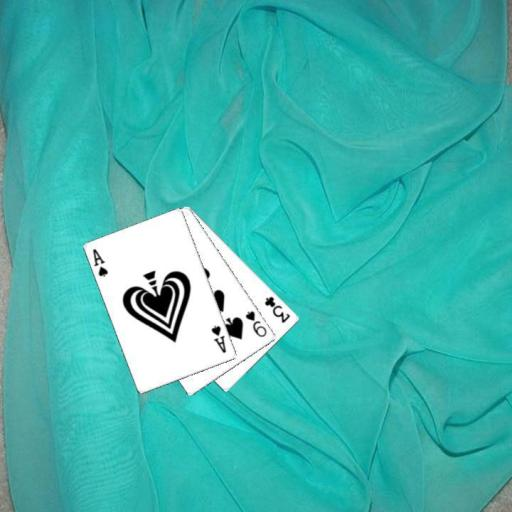3C: (262, 293, 292, 324)
9S: (242, 308, 269, 338)
AS: (90, 245, 110, 279), (209, 322, 228, 355)
